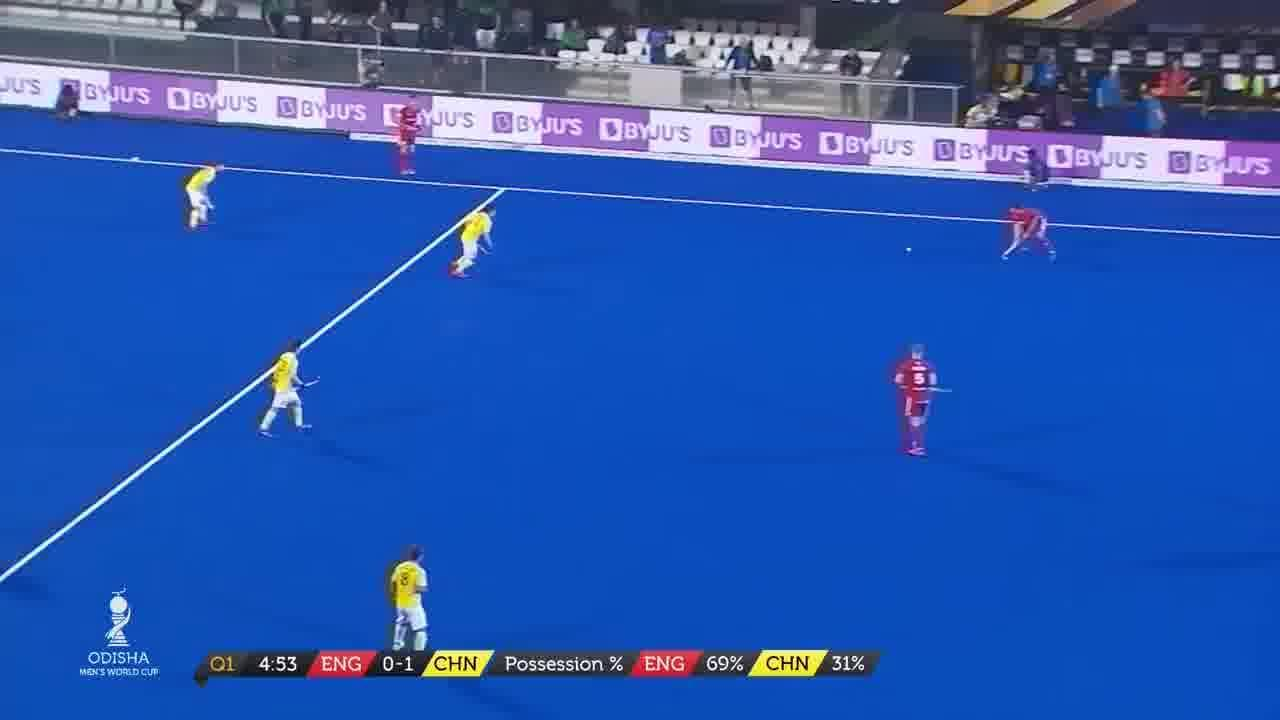ball: (903, 244, 915, 256)
